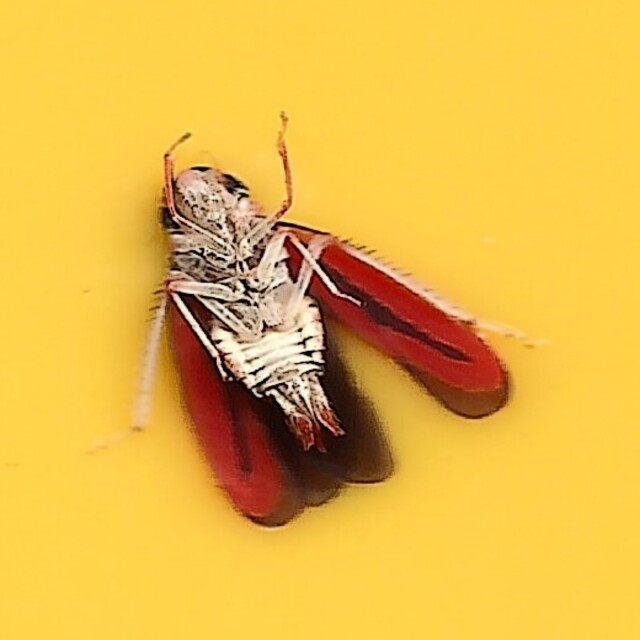Hemiptera: (123, 112, 517, 528)
